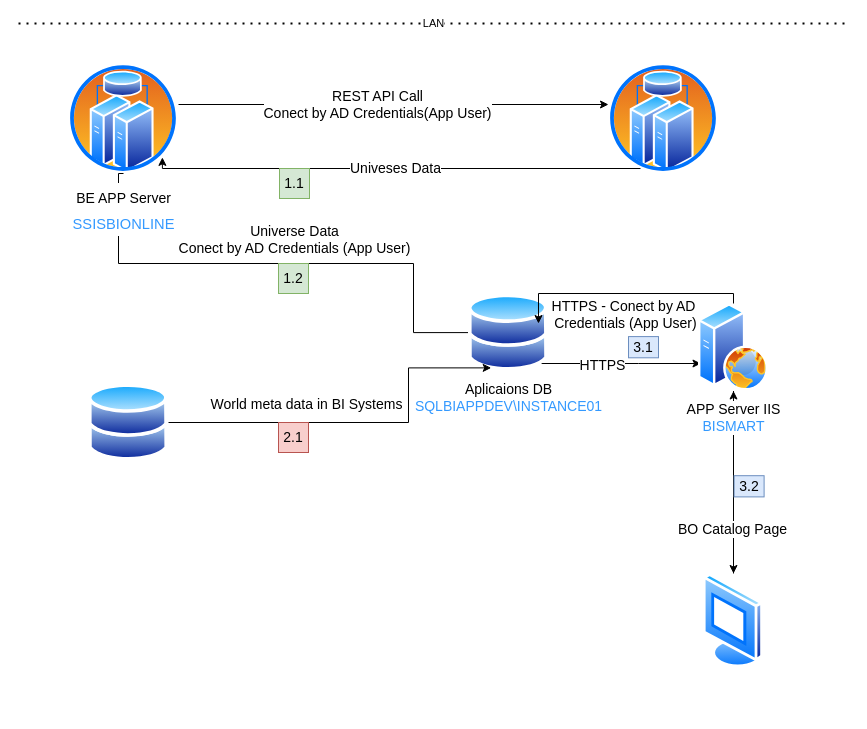
Some shapes in this 867 by 729 pixel diagram are drawn without their labels. The box of each missing label's shape, as (x1, y1, x2, y2) in pixels:
BI Admin DB SQLDWHPROD\INSTANCE01: (88, 383, 168, 461)
BO BE Cluster https://sapbo4.clalit.org.il: (608, 63, 718, 173)
WEB Client BO Catalog: (702, 573, 764, 667)
